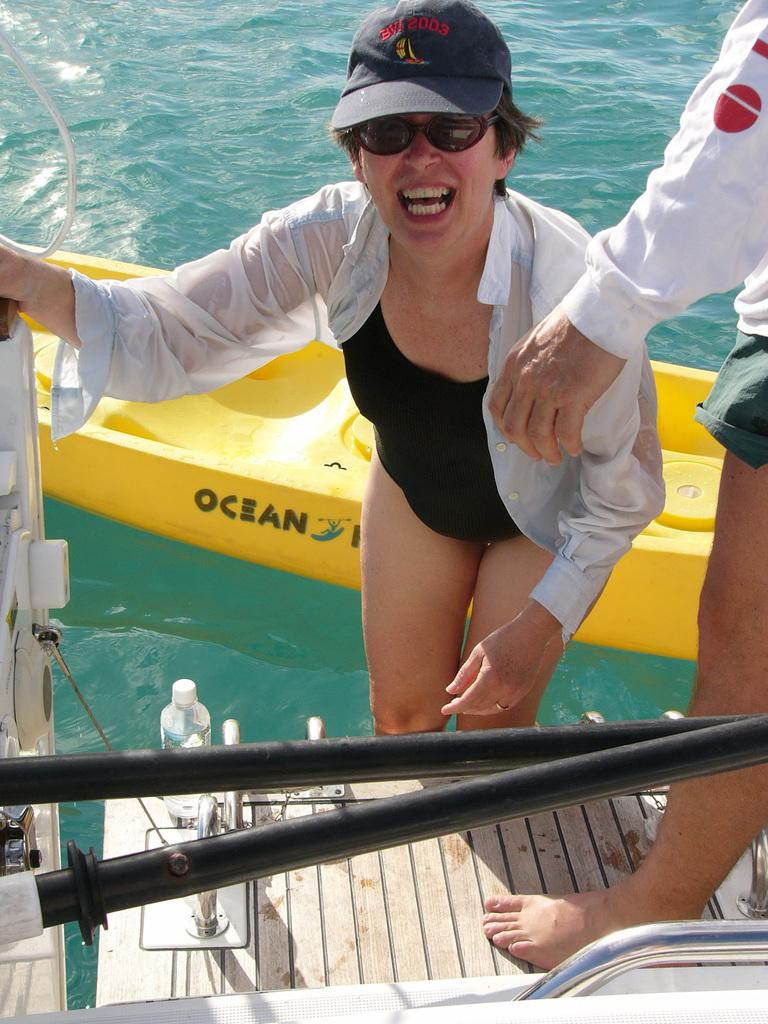Hat: (322, 0, 517, 132)
